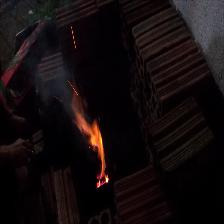fire: (72, 93, 106, 181)
